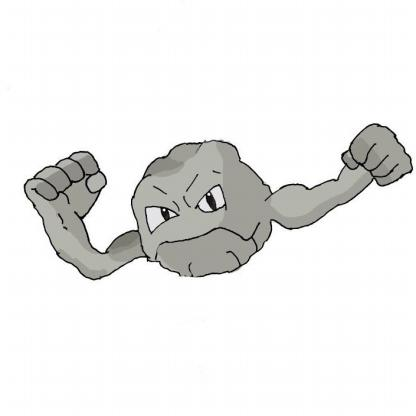Geodude: (21, 111, 416, 295)
